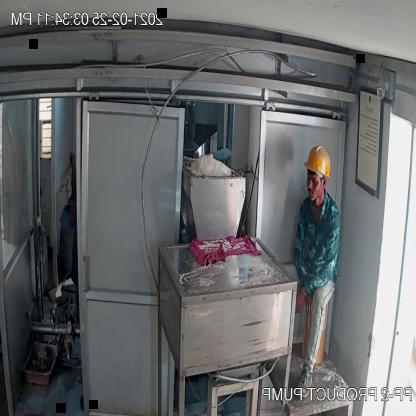helmet: (303, 144, 333, 184)
